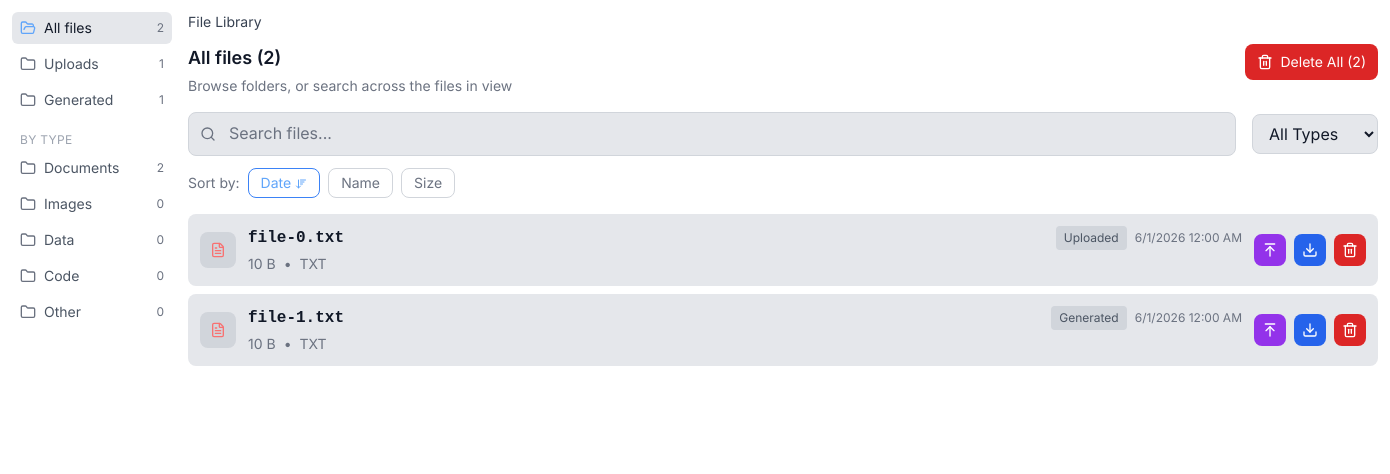
Test case: AllFilesView - bulk delete › guards against re-entry: a second click while deleting issues no extra requests
Click the button "Delete All (2)".
click(1311, 62)  # box left=1244, top=44, right=1378, bottom=80
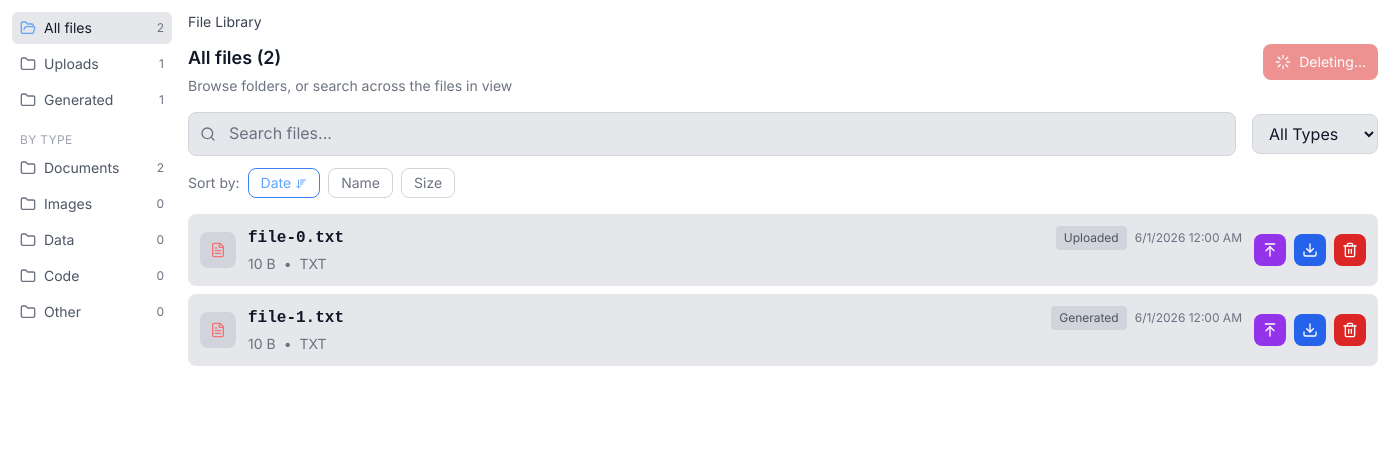
Check: the button "Deleting…" is disabled
# A second click while busy must not start another batch.
Click the button "Deleting…".
click(1321, 62)  # box left=1263, top=44, right=1378, bottom=80
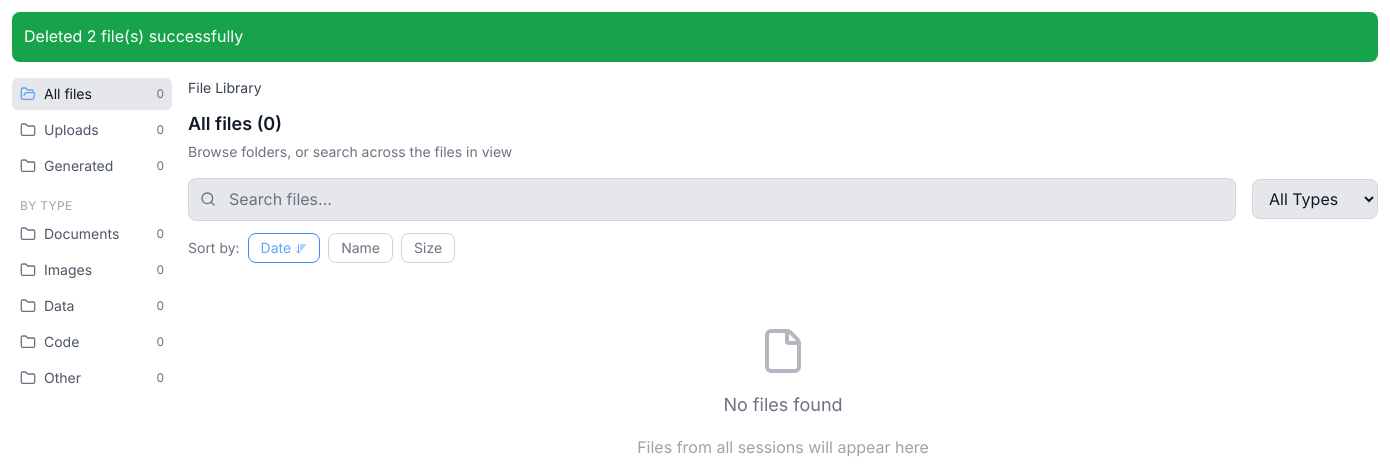
Check: the text "Deleted 2 file(s) successfully" is shown, box left=12, top=12, right=1378, bottom=62
